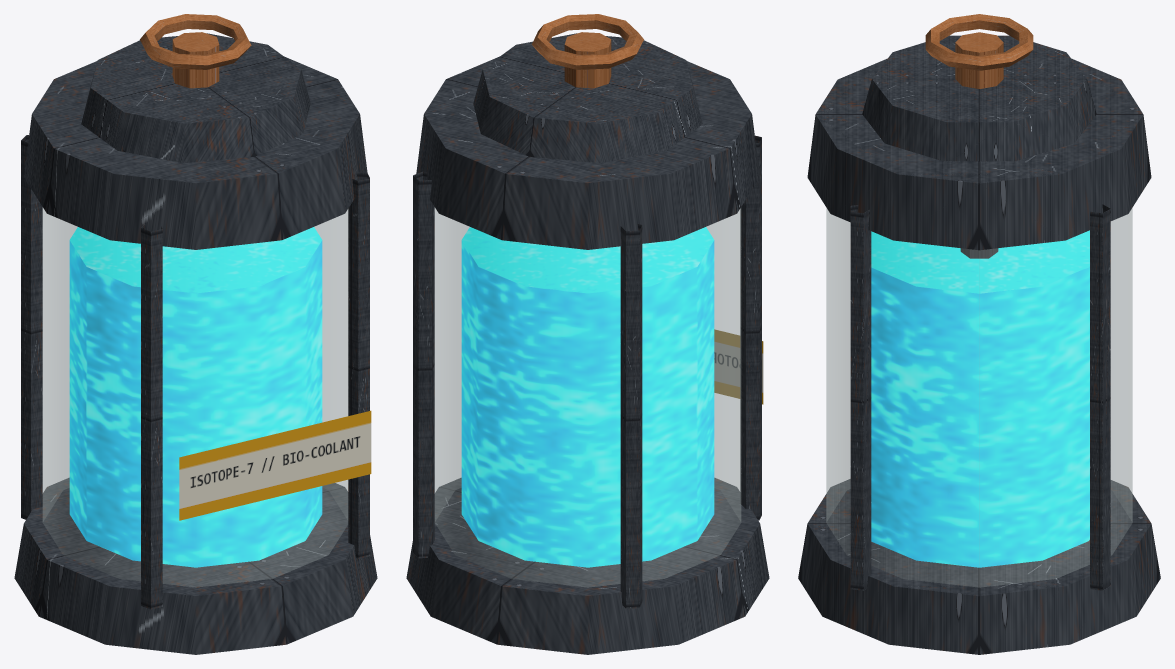
The model's file is cryo_canister_jar_blue.glb.
The picture shows the model from 3 angles, left to right: view 1: azimuth 30°, elevation 25°; view 2: azimuth 150°, elevation 25°; view 3: azimuth 270°, elevation 25°; orthographic projection.
Parts seen in each view (by area): view 1: frasco_cyan; view 2: frasco_cyan; view 3: frasco_cyan.
Boxes of the visible parts, x1,y1,x2,y2 form: frasco_cyan: (14,14,377,654); frasco_cyan: (406,14,769,654); frasco_cyan: (798,14,1160,654).
Size of the model in its own units: 0.27 by 0.4457 by 0.27.
Materials: 5 (4 with a texture image).
